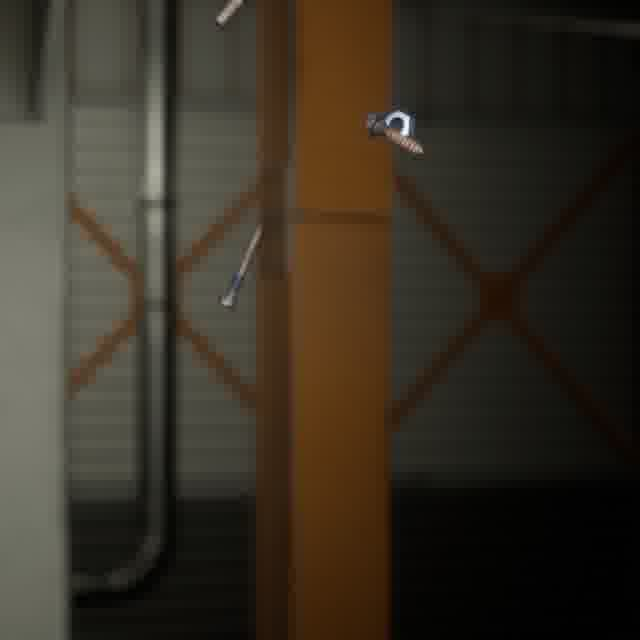bolt: (212, 220, 267, 314), (359, 106, 427, 160), (208, 0, 253, 34)
nut: (379, 105, 419, 142)
